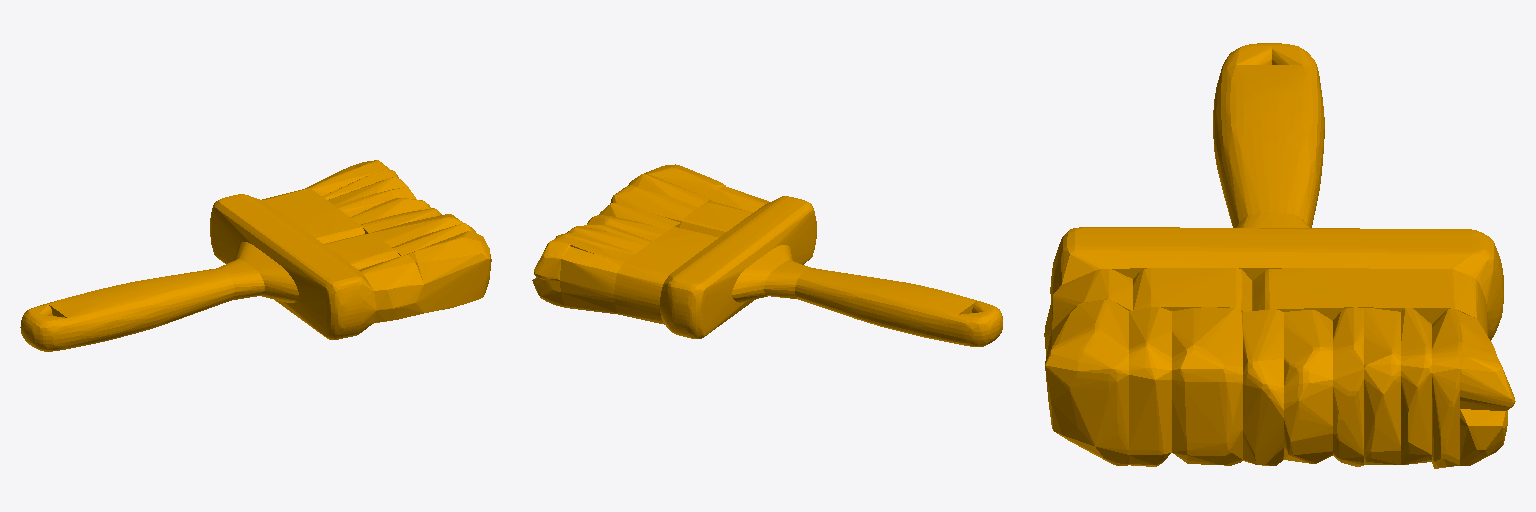
robot.urdf — blue_brush:
<?xml version="1.0"?>
<robot name="blue_brush">
  <link name="blue_brush">
    <visual>
      <origin xyz="0 0 0" rpy="0 0 0"/>
      <geometry>
        <mesh filename="blue_brush.obj" scale="1 1 1"/>
      </geometry>
    </visual>
    <collision>
      <origin xyz="0 0 0" rpy="0 0 0"/>
      <geometry>
        <mesh filename="blue_brush.obj" scale="1 1 1"/>
      </geometry>
    </collision>
    <inertial>
      <!-- From real world measurement, this is about 289.5g, this density gets us there, and CoM is at (0.1, 0, 0) wrt origin -->
      <density value="325.0"/>
      <!-- <origin xyz="0.1 0 0" rpy="0 0 0"/> -->
      <origin xyz="0.06 0 0" rpy="0 0 0"/>
    </inertial>
  </link>
</robot>

--- What the picture shows (computed from the rendered views, not written in the file) ---
The picture shows the robot from 3 angles, left to right: view 1: azimuth 30°, elevation 25°; view 2: azimuth 150°, elevation 25°; view 3: azimuth 270°, elevation 25°; orthographic projection.
Robot: blue_brush — 1 links, 0 joints (none); root link blue_brush; default pose: all joints at 0.
Visible links, largest first — view 1: blue_brush; view 2: blue_brush; view 3: blue_brush.
Link boxes in pixels (x1,y1,x2,y2): blue_brush: [20, 160, 491, 351]; blue_brush: [532, 164, 1002, 346]; blue_brush: [1044, 43, 1515, 468].
Size in the robot's own frame: 0.3017 by 0.1669 by 0.0491 metres.
Meshes: 1 distinct files referenced, 1 mesh visuals loaded (1 OBJ).
